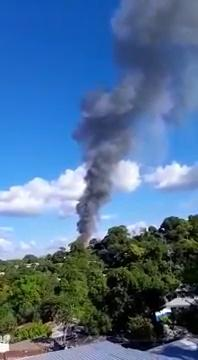smoke: (125, 0, 193, 63), (88, 104, 128, 172), (82, 192, 99, 238)
